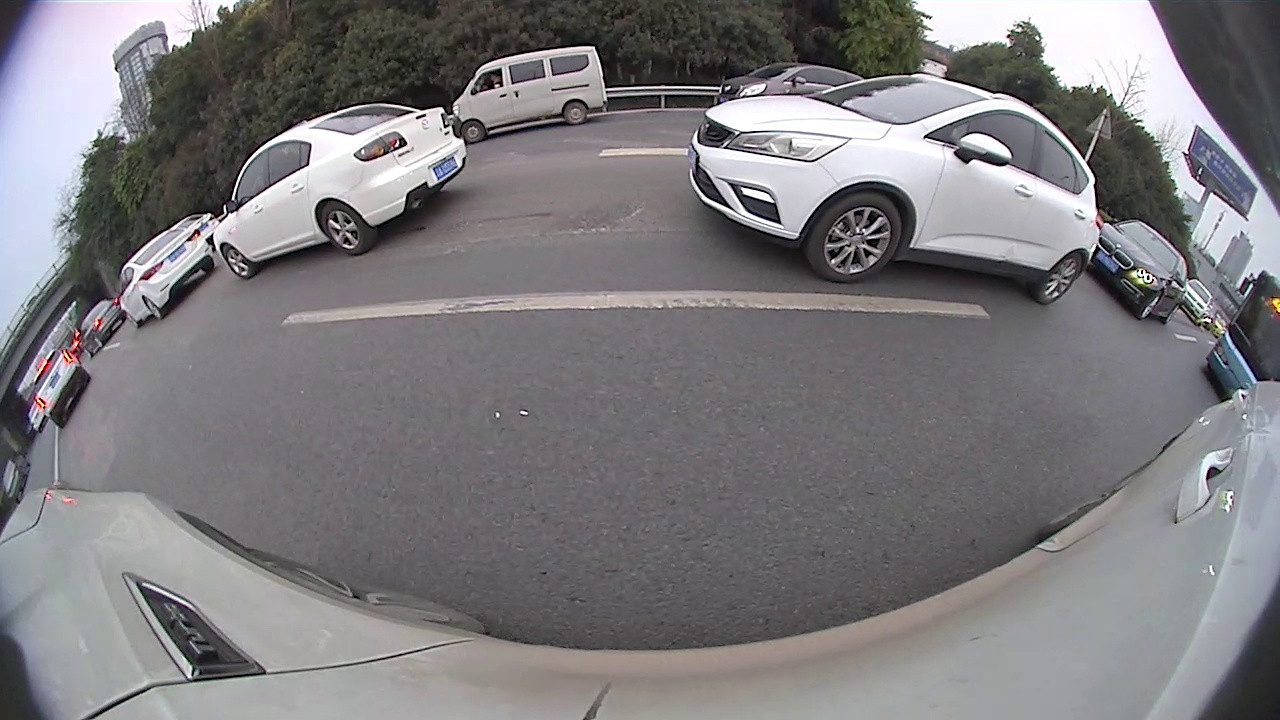bus: (1201, 258, 1279, 418)
car: (688, 74, 1102, 306), (210, 101, 473, 286), (449, 46, 610, 139), (1092, 219, 1191, 326), (110, 225, 212, 327), (716, 60, 863, 109), (24, 341, 91, 430), (73, 298, 123, 353)
front: (804, 189, 904, 285), (220, 242, 257, 281), (459, 118, 488, 146), (1136, 291, 1163, 321)
rear: (317, 197, 379, 256), (1032, 248, 1085, 309), (561, 99, 592, 128), (143, 295, 163, 321)
